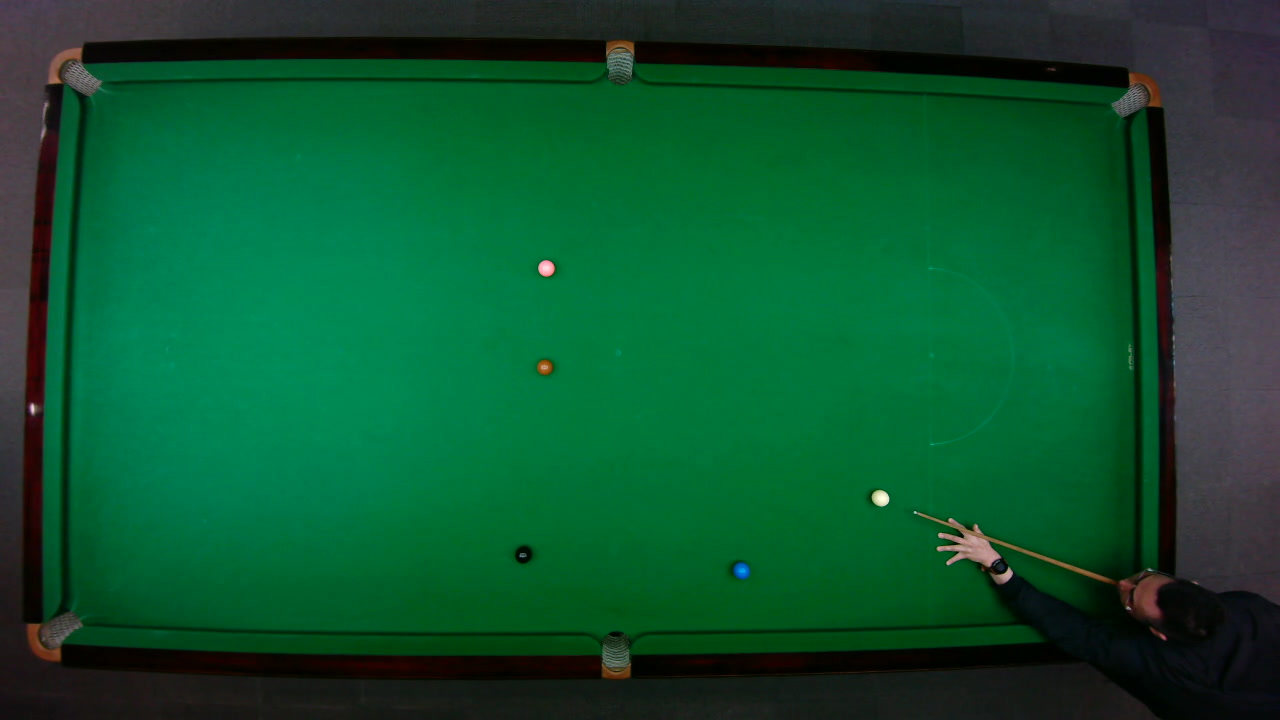bag: (25, 609, 84, 662), (45, 46, 102, 96), (1108, 71, 1161, 118), (600, 629, 630, 680), (605, 38, 633, 85)
black: (513, 544, 532, 563)
blue: (731, 560, 750, 579)
brown: (536, 359, 553, 375)
cue: (911, 510, 1116, 585)
pink: (536, 259, 555, 277)
white: (869, 488, 890, 506)
zone: (927, 265, 1013, 445)
